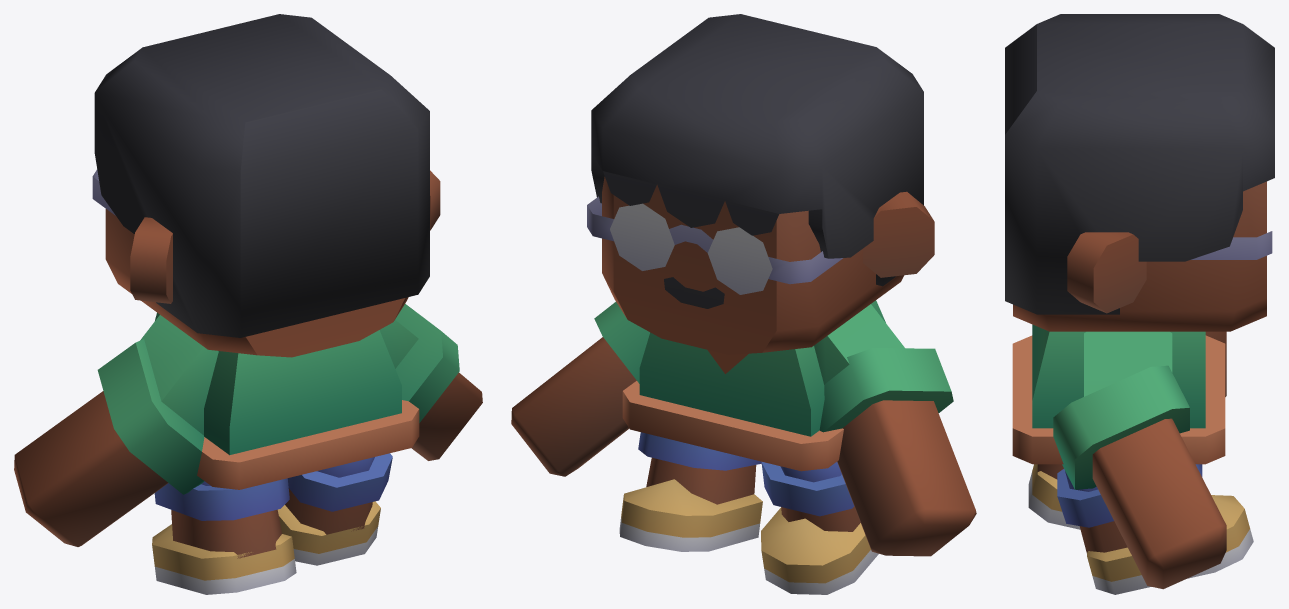
File: hand_0_w2.fbx
The picture shows the model from 3 angles, left to right: view 1: azimuth 30°, elevation 25°; view 2: azimuth 150°, elevation 25°; view 3: azimuth 270°, elevation 25°; orthographic projection.
Visible parts, largest first — view 1: body-mesh; view 2: body-mesh; view 3: body-mesh.
Boxes of the visible parts, box(x1,y1,x2,y2) form: body-mesh: box(14, 14, 482, 594); body-mesh: box(511, 14, 976, 594); body-mesh: box(1005, 14, 1274, 594).
Size of the model in its own units: 0.9517 by 1 by 0.4873.
